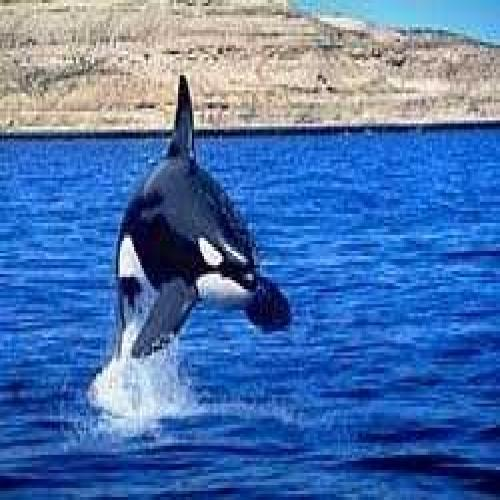killer_whale-endangered: (97, 71, 299, 392)
